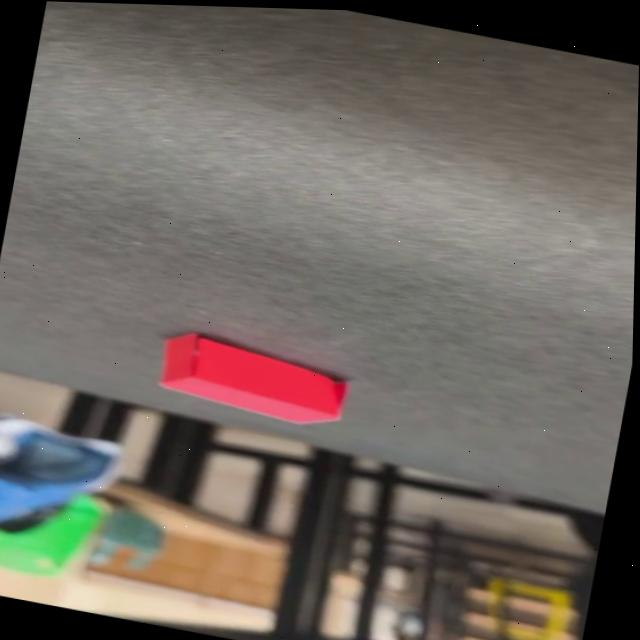red block: (152, 327, 353, 434)
